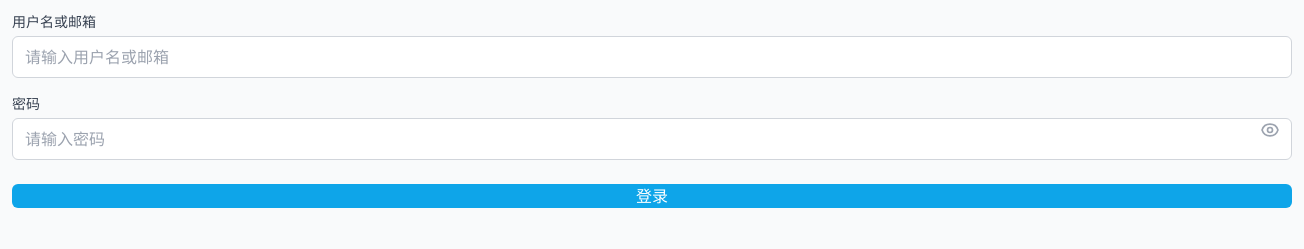
LoginForm - 表单验证 › 字段失焦时应该触发验证（太短的用户名）
Type "ab" into the field labelled "用户名或邮箱". click: (652,57)
box: [12, 36, 1292, 78]
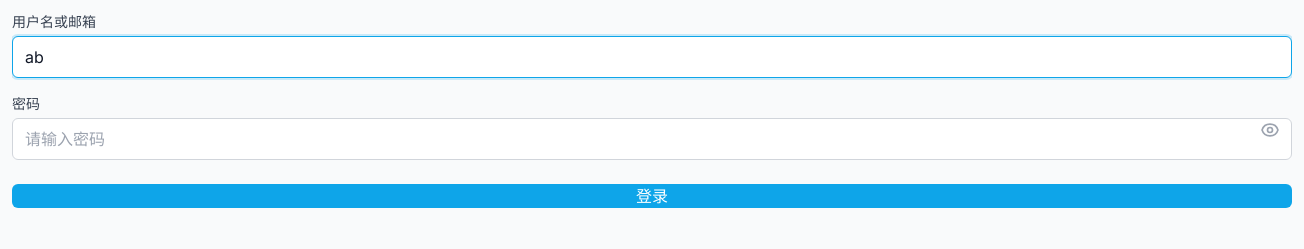
Press Tab
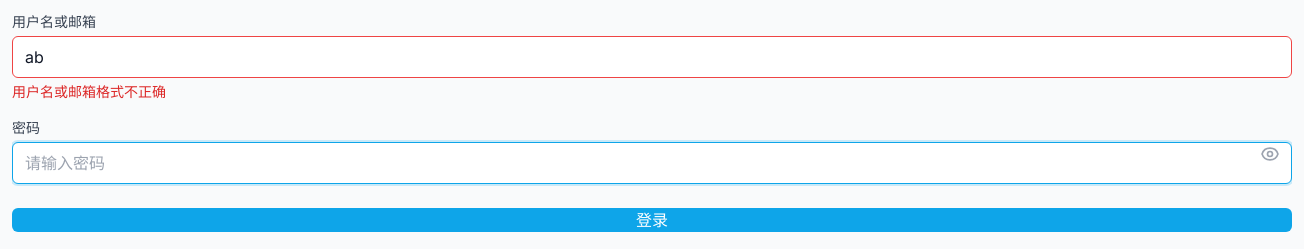
Check: the text "用户名或邮箱格式不正确" is shown, box [12, 83, 166, 100]
